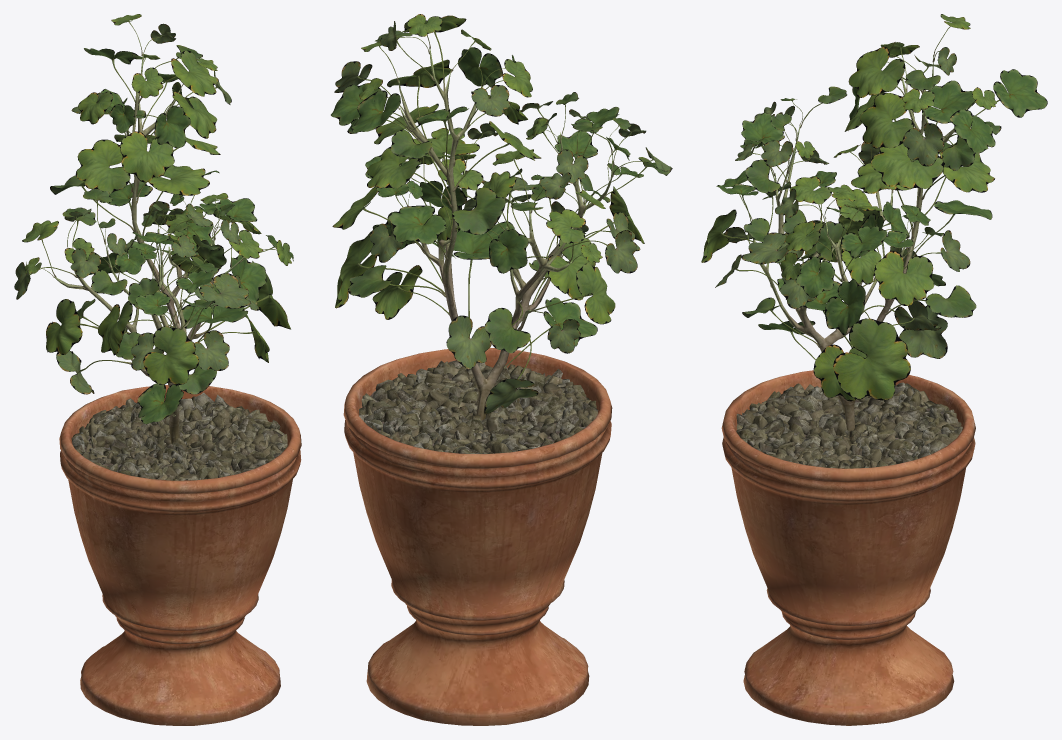
File: potted_plant_01.glb
The picture shows the model from 3 angles, left to right: view 1: azimuth 30°, elevation 25°; view 2: azimuth 150°, elevation 25°; view 3: azimuth 270°, elevation 25°; orthographic projection. The views are drawn at different scales.
Parts seen in each view (by area): view 1: potted_plant_01_stem, potted_plant_01_leaves; view 2: potted_plant_01_stem, potted_plant_01_leaves; view 3: potted_plant_01_stem, potted_plant_01_leaves.
Boxes of the visible parts, box(x1,y1,x2,y2) form: potted_plant_01_stem: box(54, 54, 301, 725); potted_plant_01_leaves: box(14, 14, 293, 424); potted_plant_01_stem: box(343, 48, 613, 725); potted_plant_01_leaves: box(331, 14, 672, 414); potted_plant_01_stem: box(721, 55, 975, 725); potted_plant_01_leaves: box(701, 14, 1047, 401).
Size of the model in its own units: 0.5874 by 1.34 by 0.6336.
Materials: 2 (2 with a texture image).
